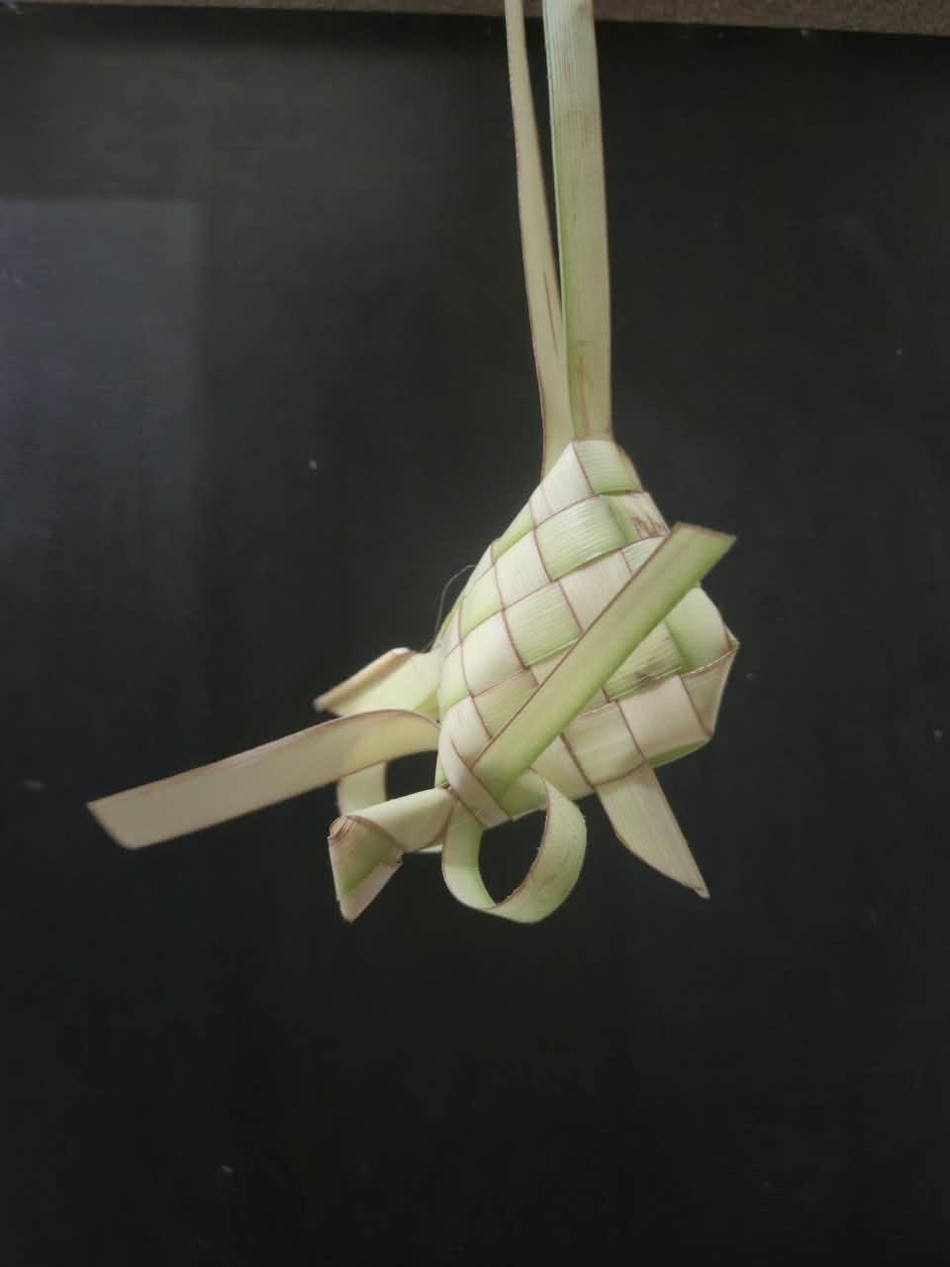Tipat Dampulan: (90, 441, 736, 925)
